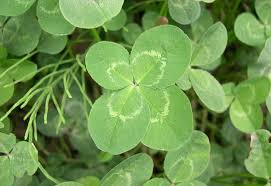4-clover: (85, 24, 197, 151)
